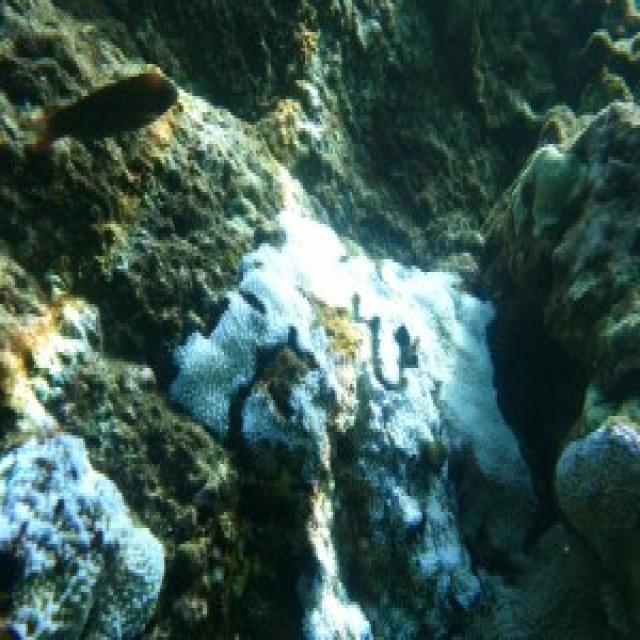Bleached: (179, 276, 489, 437), (1, 438, 139, 571), (296, 503, 372, 640), (255, 188, 343, 281), (553, 415, 640, 488), (398, 500, 461, 589), (41, 302, 96, 381), (524, 140, 574, 213)
Healthy: (1, 11, 129, 254), (375, 4, 526, 203), (161, 440, 242, 634)
